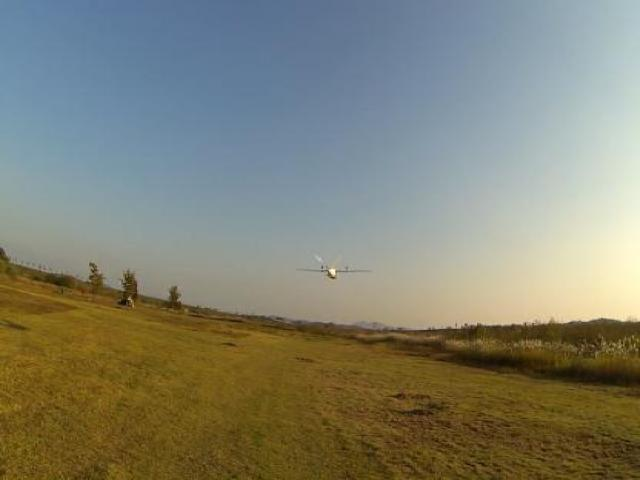uav: (286, 248, 374, 284)
